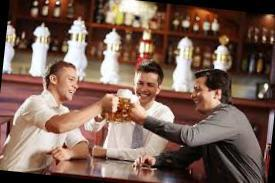Drunk: (132, 70, 159, 107), (189, 76, 213, 114), (58, 67, 80, 104)
